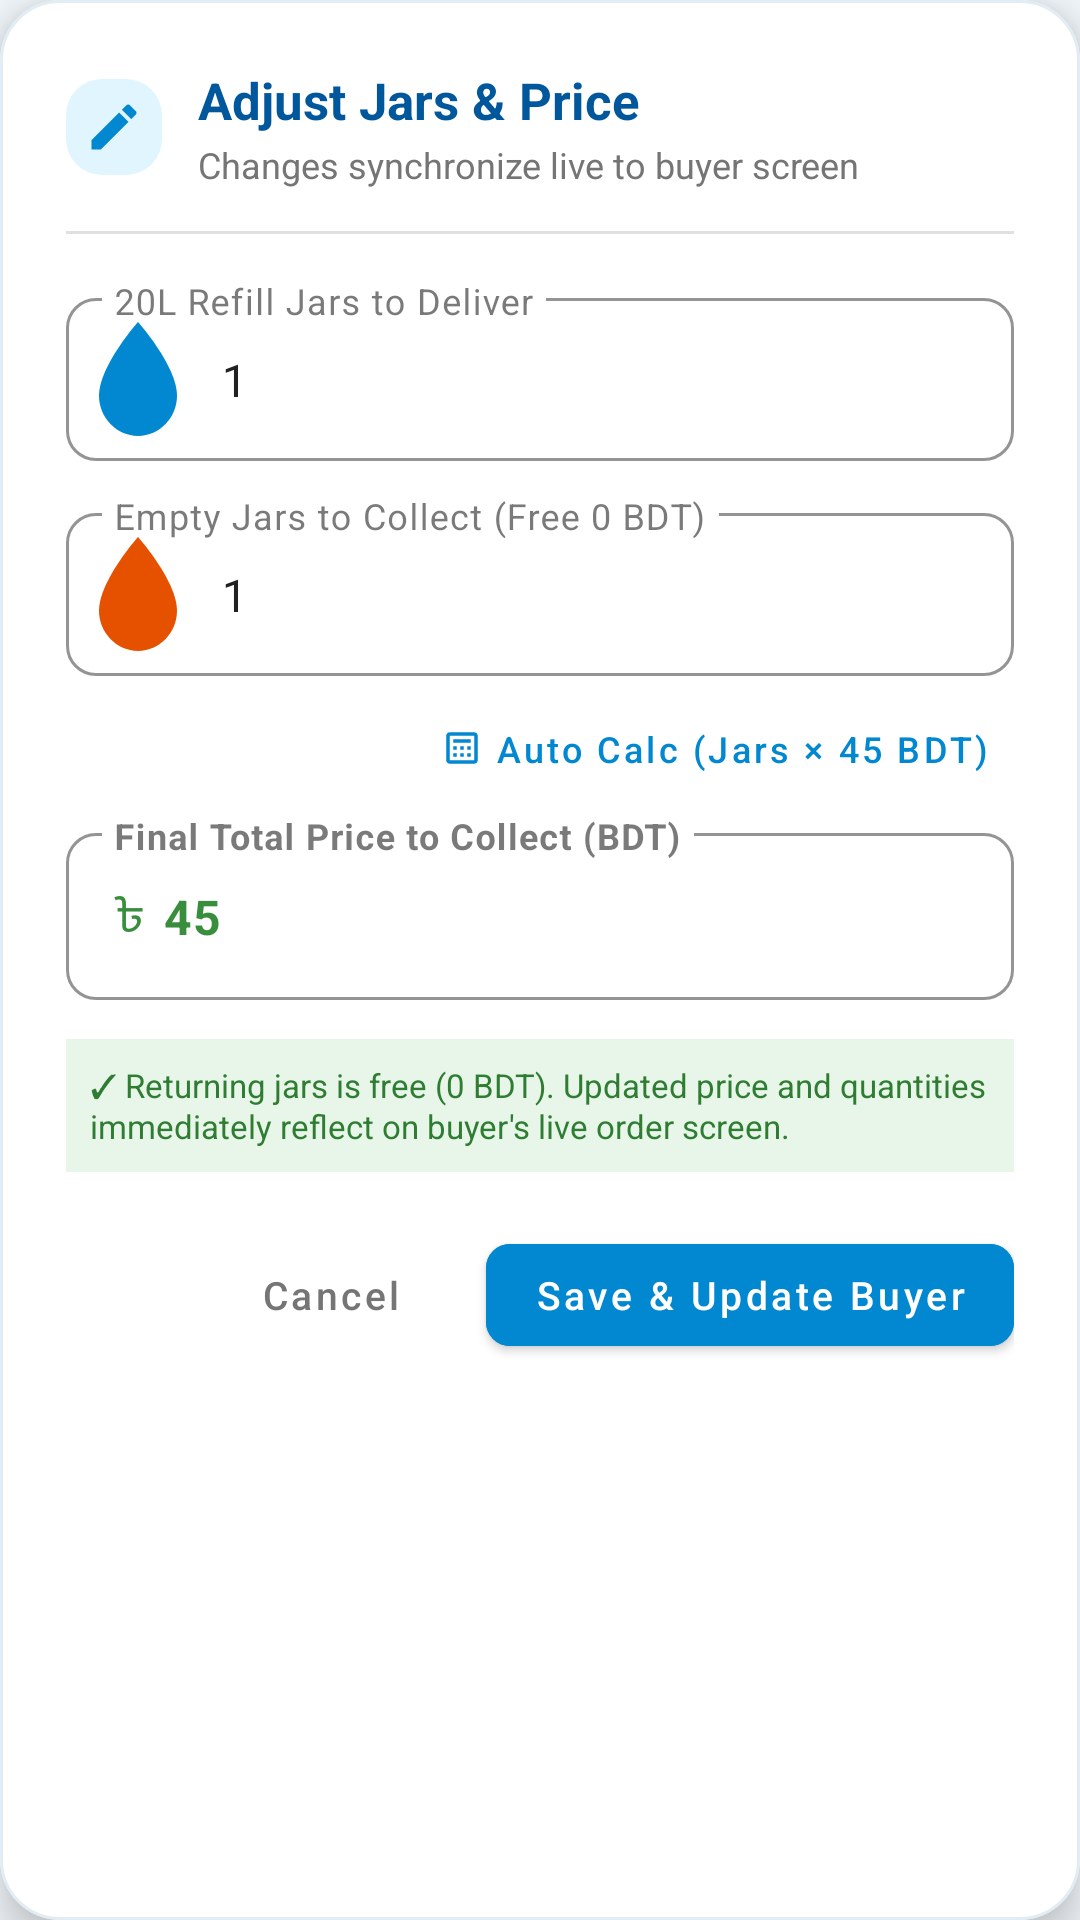

Icon click points for this 1080 × 1920 phone screenshot, format (x,y):
Edit: (114,127)
